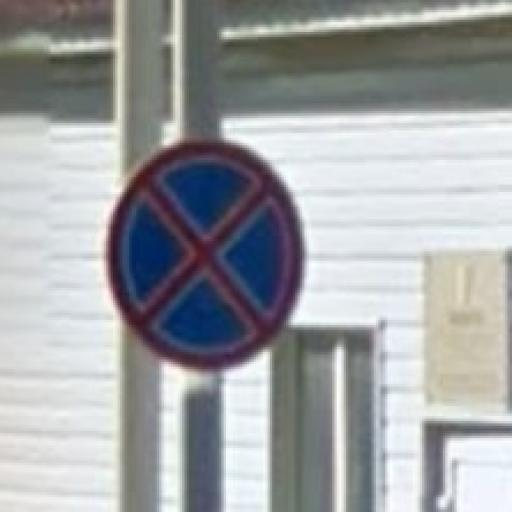traffic_sign: (107, 139, 306, 370)
